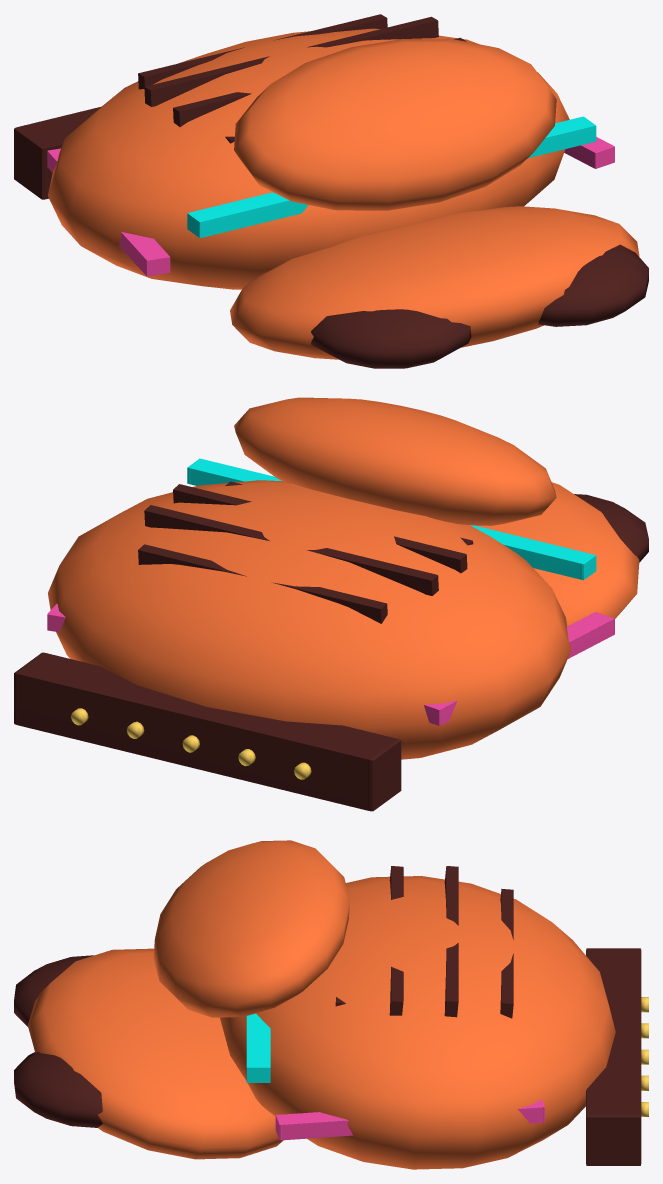
The model's file is snap_back_roblox_lowpoly.glb.
3 views of the same model, one above another, from view 1: azimuth 30°, elevation 25°; view 2: azimuth 150°, elevation 25°; view 3: azimuth 270°, elevation 25° (orthographic). The views are drawn at different scales.
Parts seen in each view (by area): view 1: SnapBack_Roblox_LowPoly_Handle; view 2: SnapBack_Roblox_LowPoly_Handle; view 3: SnapBack_Roblox_LowPoly_Handle.
Boxes of the visible parts, <box> form: SnapBack_Roblox_LowPoly_Handle: <box>14,14,648,368</box>; SnapBack_Roblox_LowPoly_Handle: <box>14,397,648,811</box>; SnapBack_Roblox_LowPoly_Handle: <box>14,840,648,1169</box>.
Size of the model in its own units: 1.56 by 0.7665 by 1.84.
